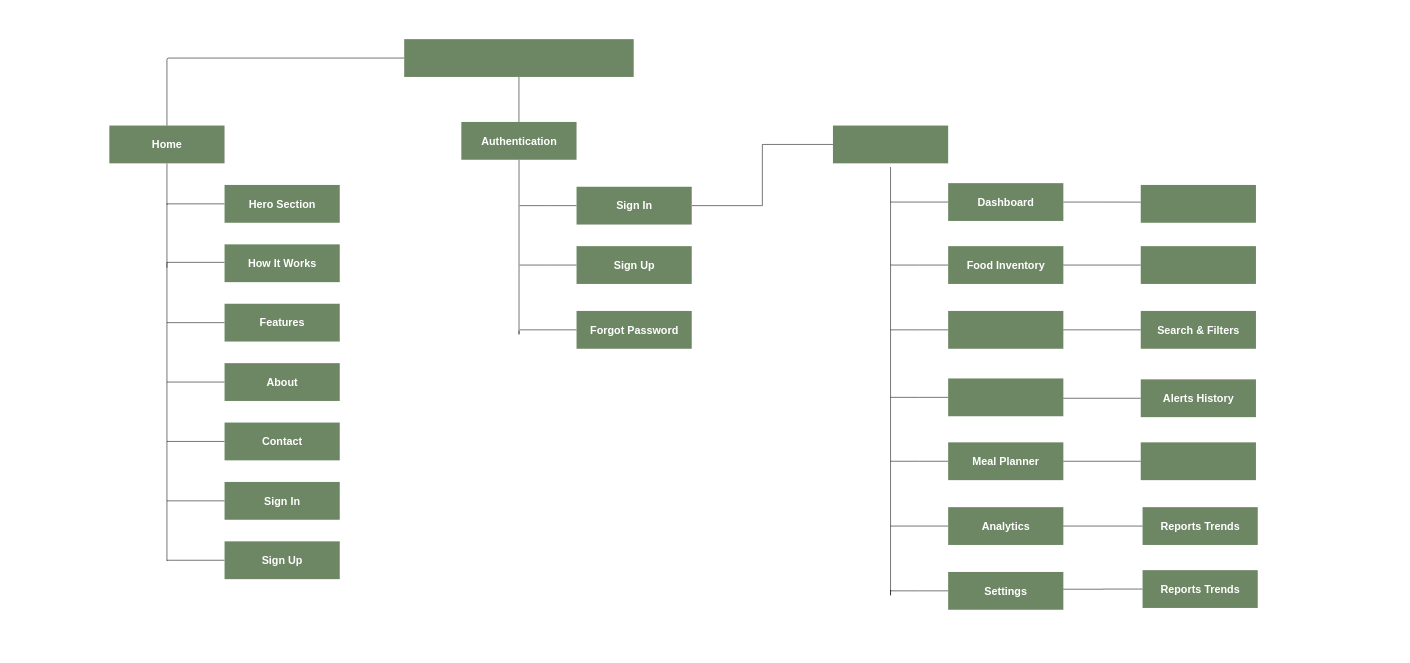
Image size: 1410x663. Some labels were removed from this diagram. Each missing label, with the box of its shape:
Browse Food Item: (948, 311, 1063, 349)
CRUD Operations: (1141, 246, 1256, 284)
Expiry Alerts: (948, 378, 1063, 416)
Overview Status: (1141, 185, 1256, 223)
User Dashboard: (833, 125, 948, 163)
Weekly Planner: (1141, 442, 1256, 480)
ZeroWaste Web App: (404, 39, 634, 77)
